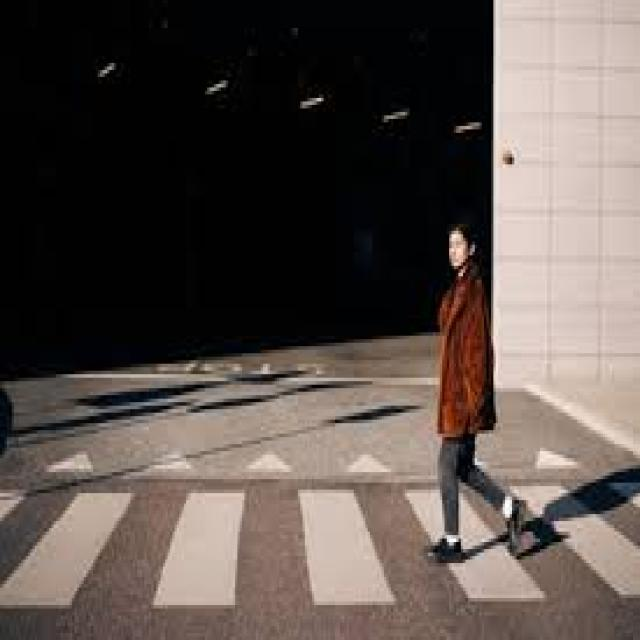Pedestrians: (426, 220, 531, 570)
